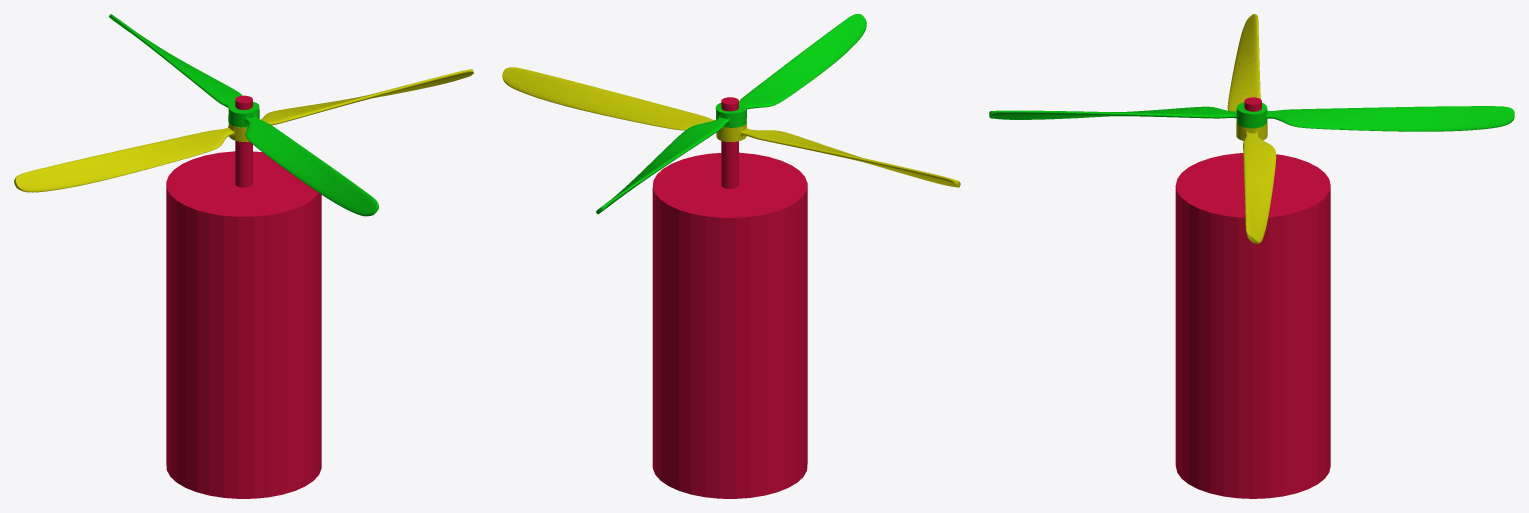
Rendered from flying_cylinder.obj.
The picture shows the model from 3 angles, left to right: view 1: azimuth 30°, elevation 25°; view 2: azimuth 150°, elevation 25°; view 3: azimuth 270°, elevation 25°; orthographic projection.
Visible parts, largest first — view 1: Cylinder.002, Cylinder.001, Cylinder; view 2: Cylinder.002, Cylinder.001, Cylinder; view 3: Cylinder.002, Cylinder, Cylinder.001.
Part boxes in pixels (x1,y1,x2,y2): Cylinder.002: (166,95,321,498); Cylinder.001: (14,69,473,192); Cylinder: (109,14,378,216); Cylinder.002: (652,97,807,498); Cylinder.001: (502,67,960,187); Cylinder: (596,14,866,214); Cylinder.002: (1175,97,1330,498); Cylinder: (989,102,1514,131); Cylinder.001: (1227,14,1276,243).
Size of the model in its own units: 1.7 by 1.3 by 1.7.
